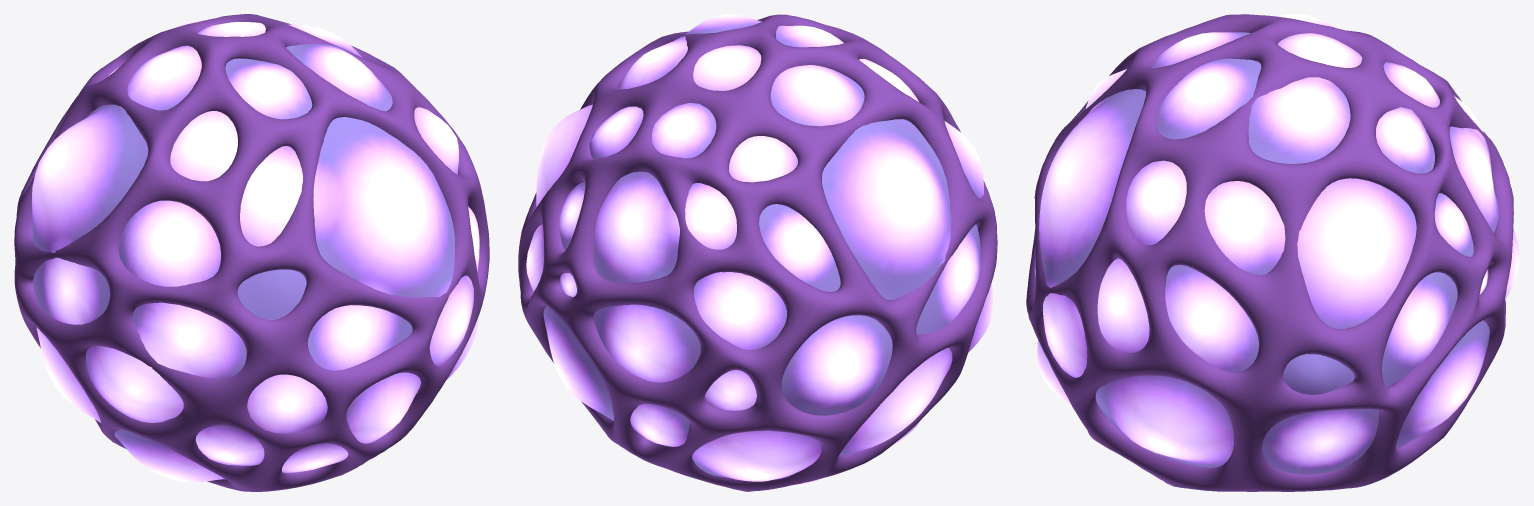
The model's file is alien_egg-transformed.glb.
3 views of the same model, side by side, from view 1: azimuth 30°, elevation 25°; view 2: azimuth 150°, elevation 25°; view 3: azimuth 270°, elevation 25° (orthographic). The views are drawn at different scales.
Parts seen in each view (by area): view 1: Object_4, Object_5; view 2: Object_4, Object_5; view 3: Object_4, Object_5.
Part boxes in pixels (x1,y1,x2,y2): Object_4: (15, 20, 479, 482); Object_5: (14, 14, 489, 491); Object_4: (526, 14, 993, 485); Object_5: (518, 14, 997, 491); Object_4: (1034, 14, 1519, 491); Object_5: (1026, 14, 1513, 491).
Bounding box in the file's own units: 3.53 × 3.62 × 3.53.
